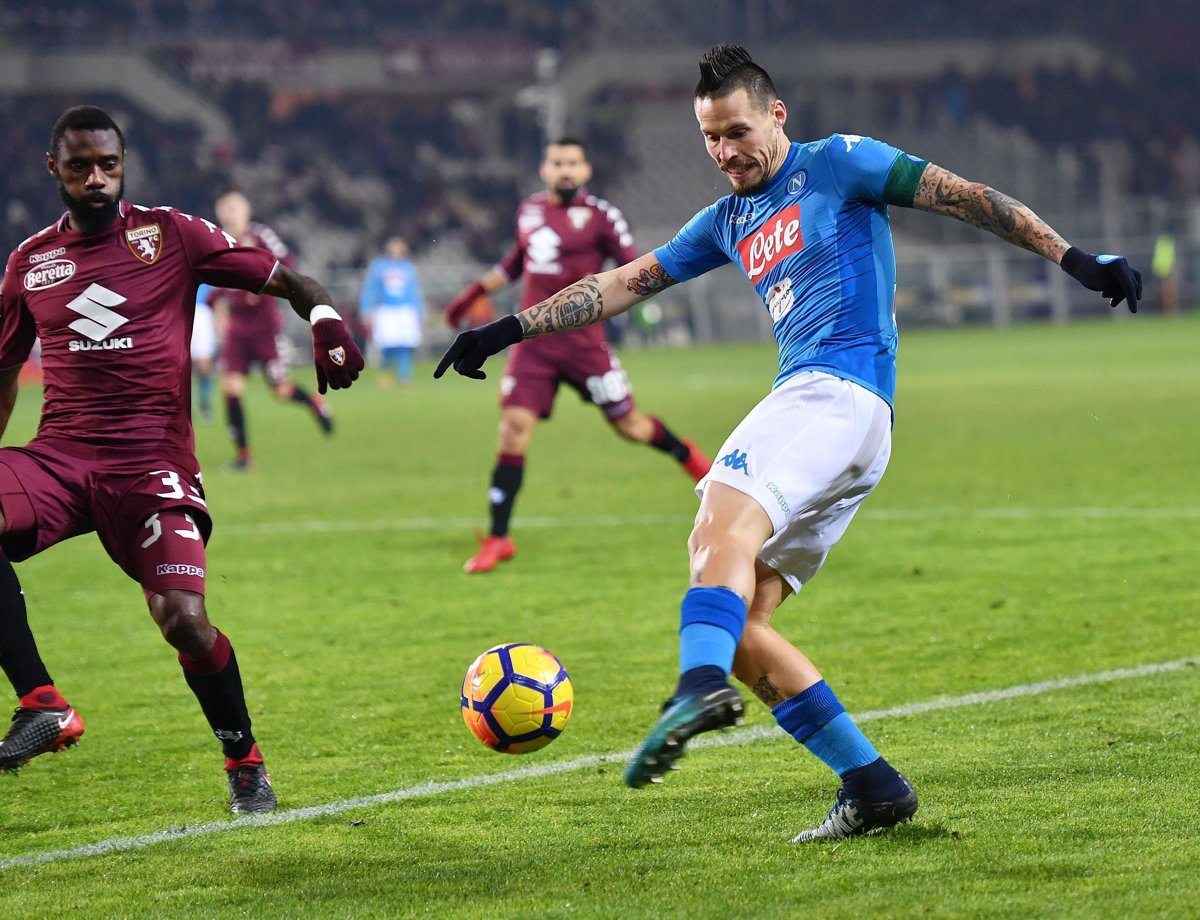soccer player: (434, 47, 1150, 845), (1, 98, 377, 826), (443, 142, 709, 586), (200, 190, 343, 474), (362, 231, 429, 391)
soccerball: (456, 636, 575, 759)
